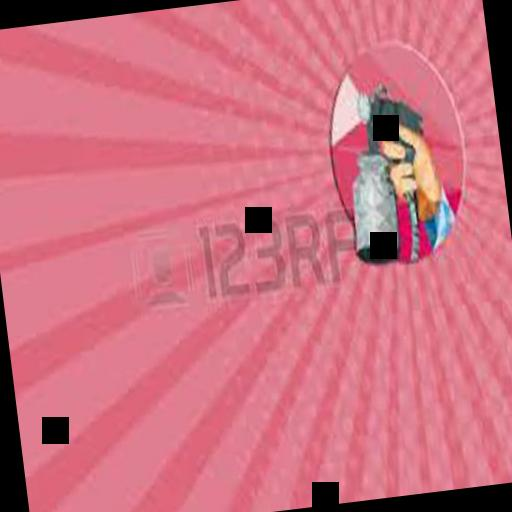Handgun: (358, 84, 428, 192)
